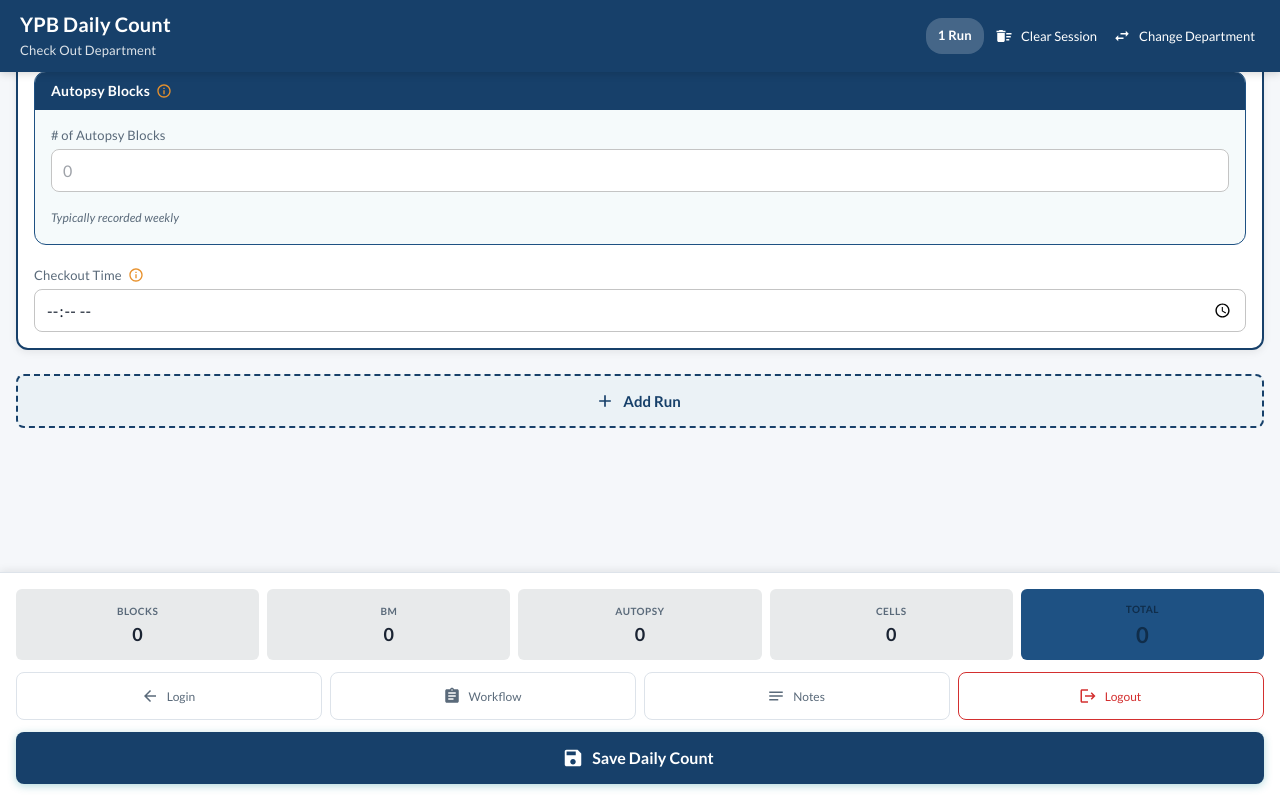
it: YPBDailyCountForm › Add Run › should auto-collapse all existing runs when adding new run
(page scrolled)
# Add a new run
Click the button "Add Run" at (640, 401), box [16,374,1264,428]
(page scrolled)
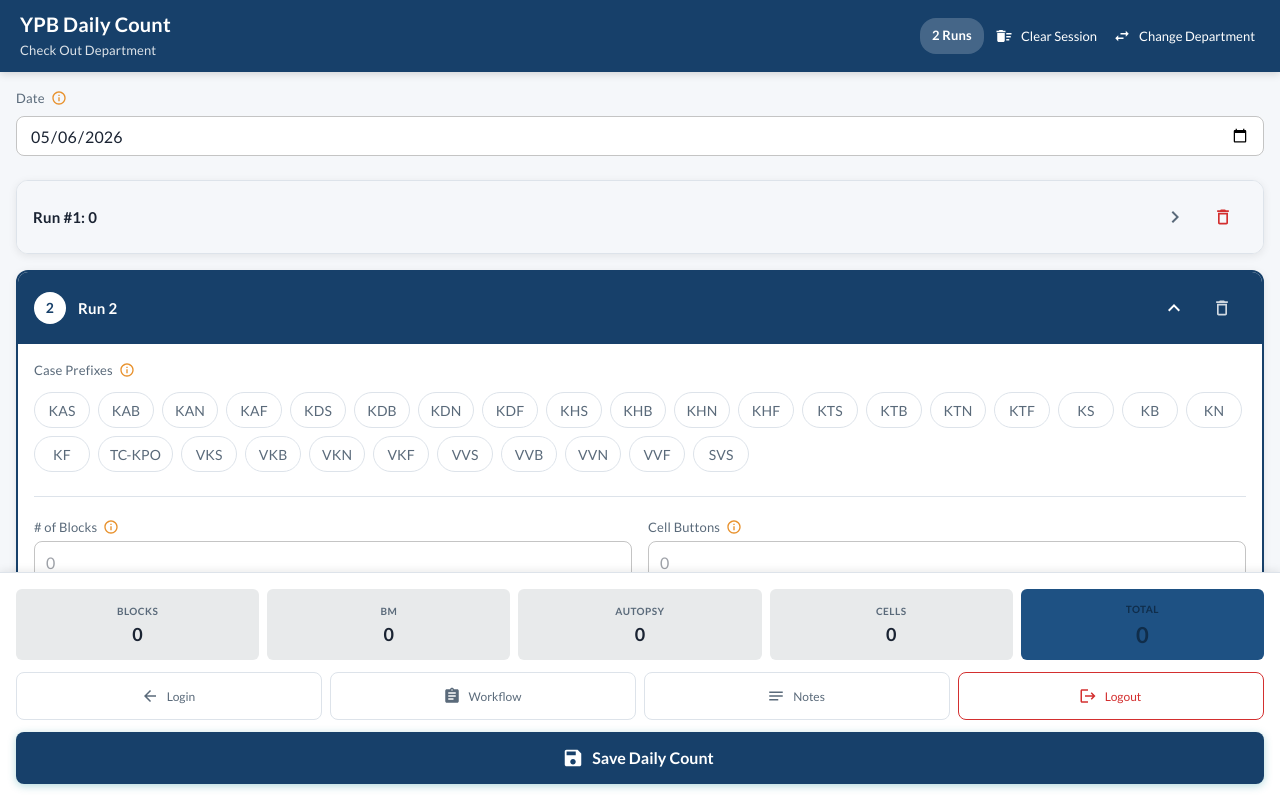
Expected: the heading "Run #1: 0" is shown, [33,204,97,231]
